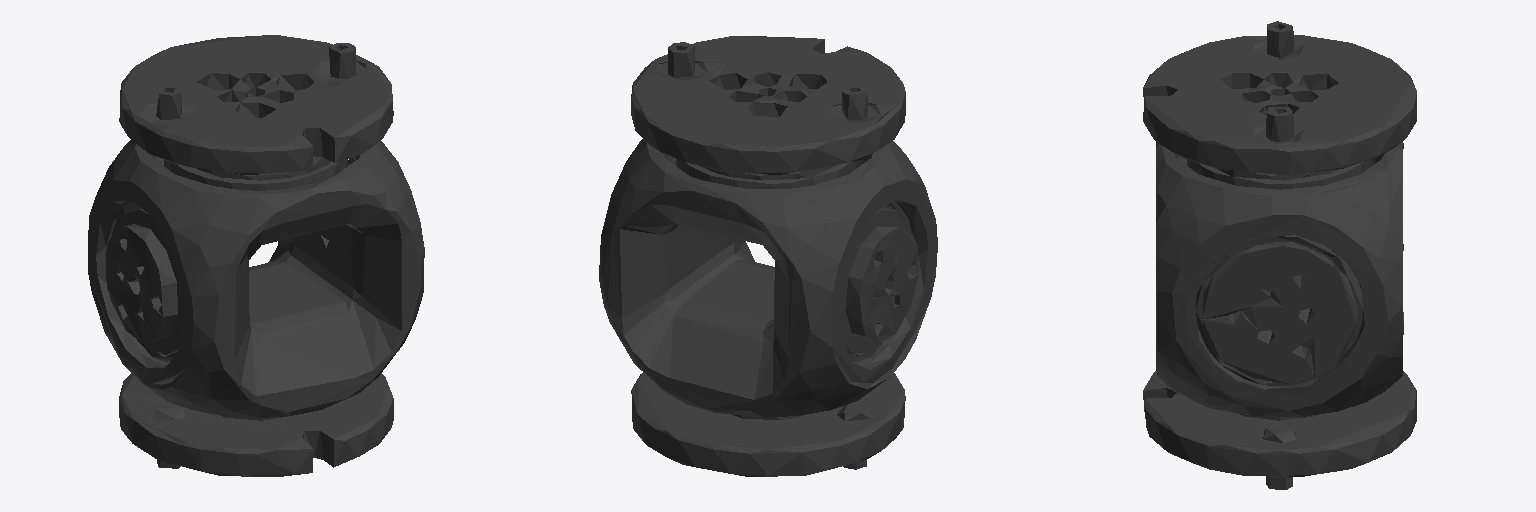
Rendered from wristPitchLeft.obj.
3 renders of one model, left to right at view 1: azimuth 30°, elevation 25°; view 2: azimuth 150°, elevation 25°; view 3: azimuth 270°, elevation 25°, orthographic.
Bounding box in the file's own units: 0.041 × 0.06 × 0.0399.